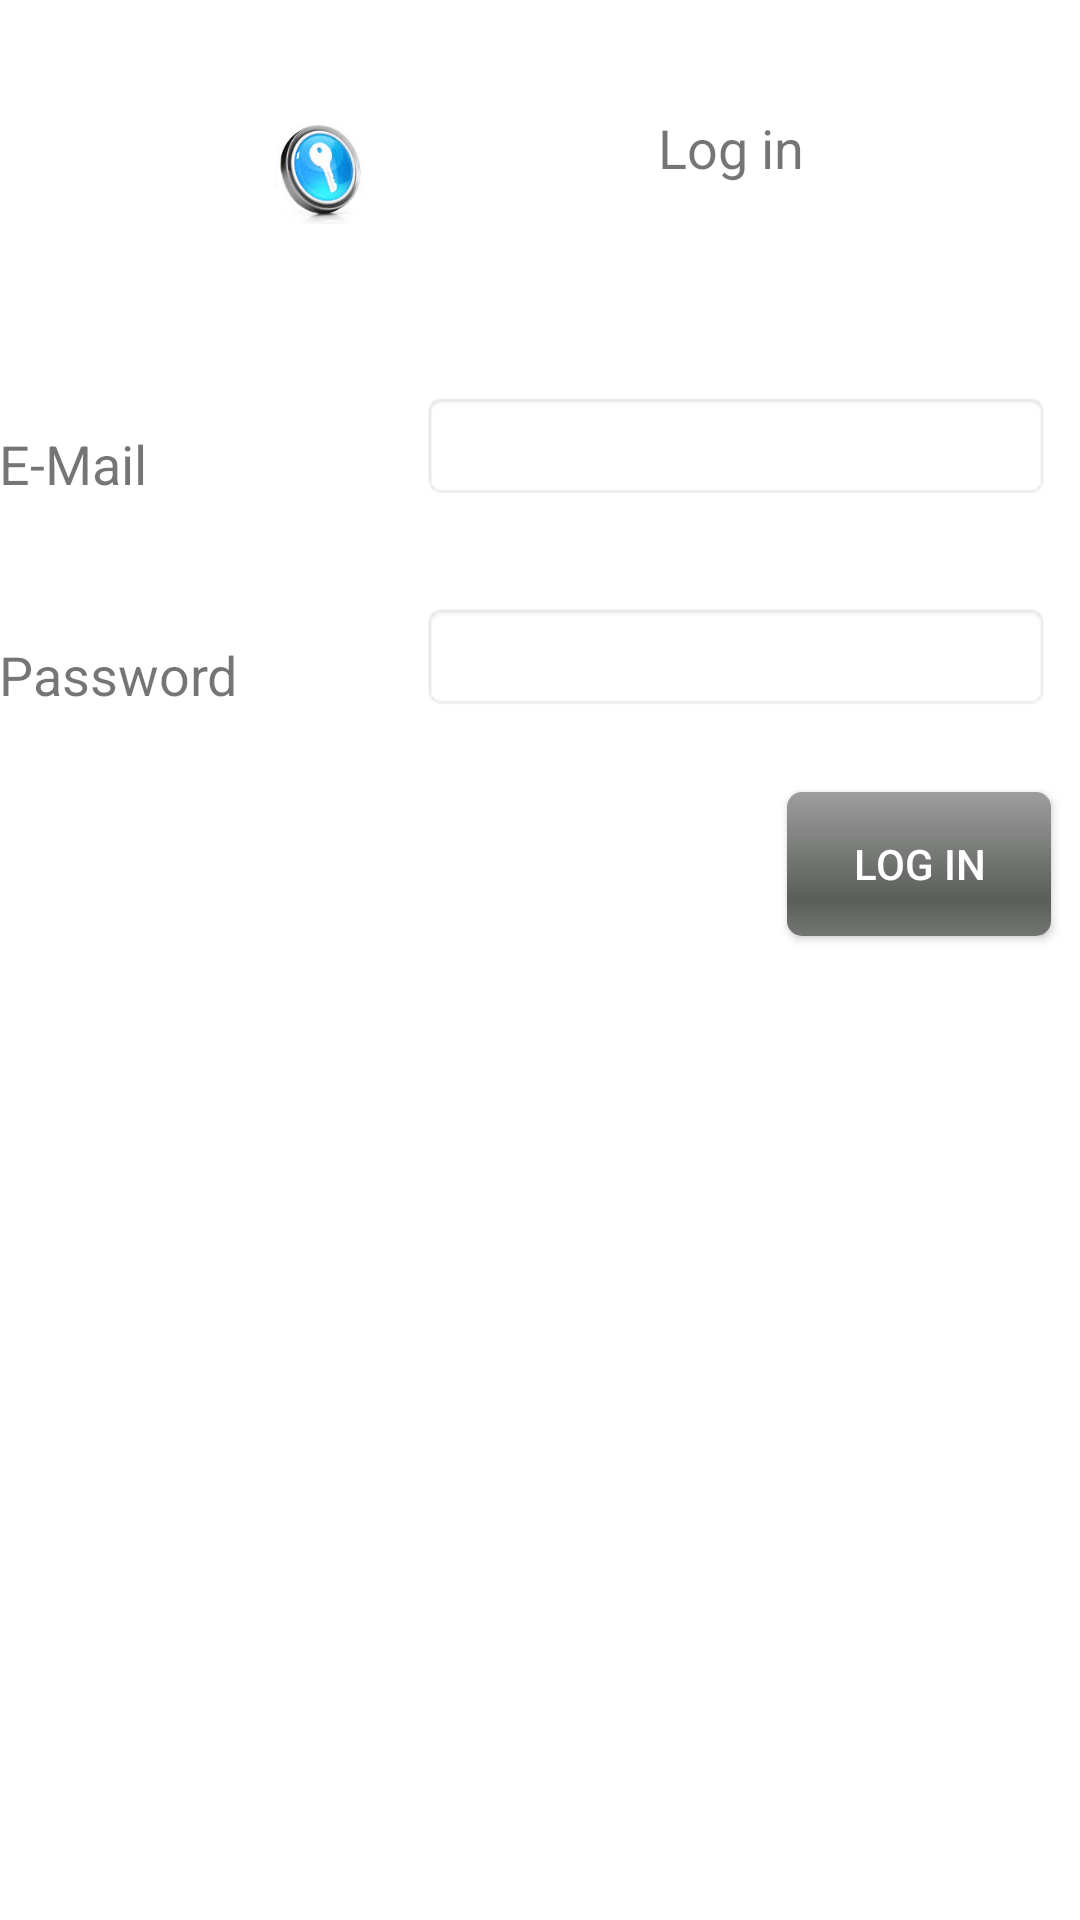

Where to tap for icons on this 1080 x 1920 app screen, as [x,y]:
log: [320,172]
